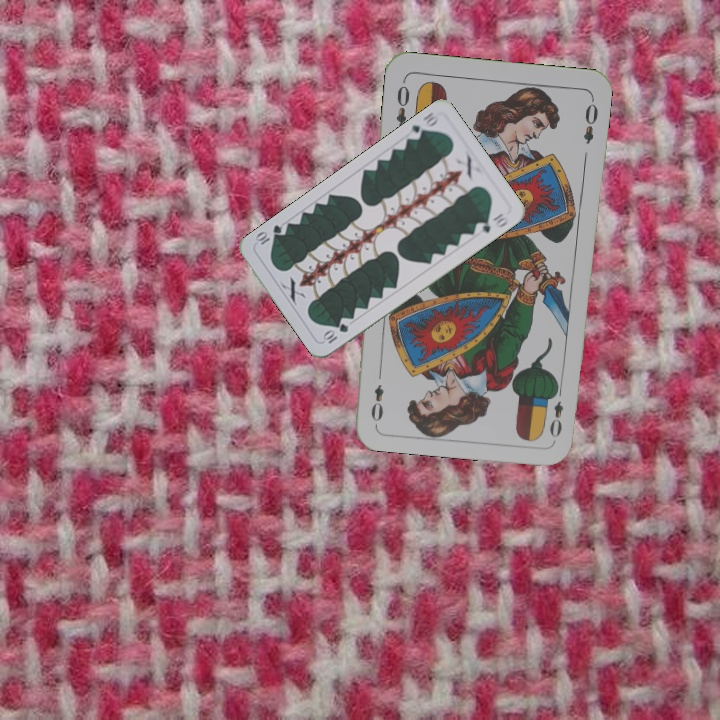EO: (546, 382, 566, 440), (391, 76, 412, 128)
G10: (407, 108, 441, 143), (319, 319, 351, 346)
